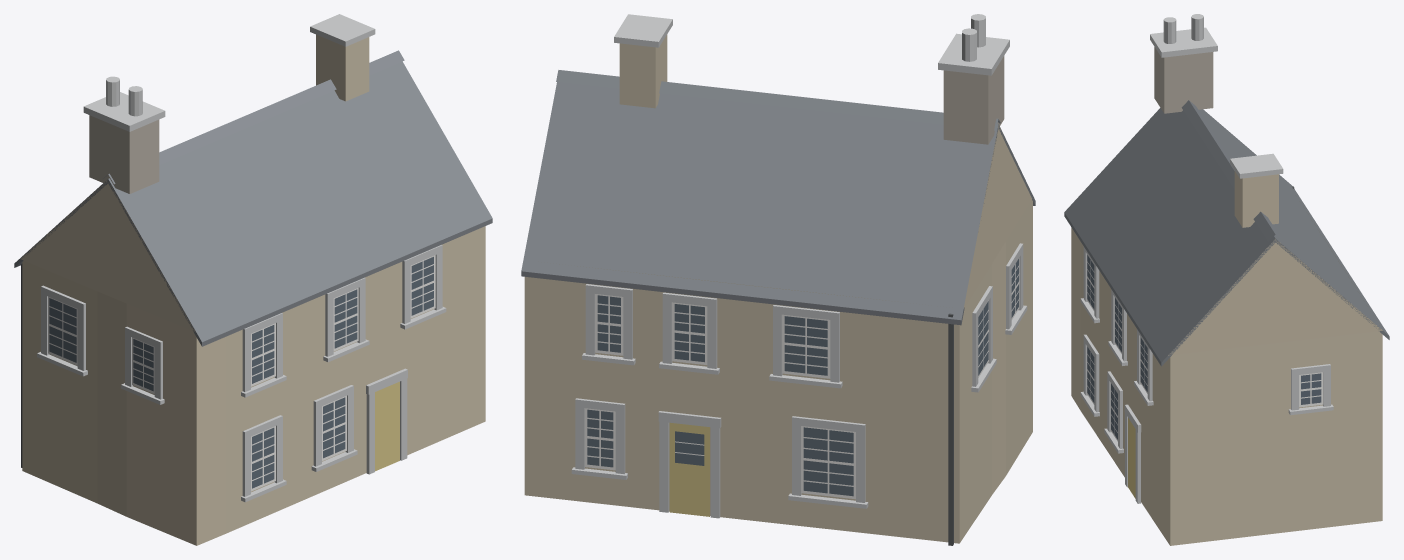
The picture shows the model from 3 angles, left to right: view 1: azimuth 30°, elevation 25°; view 2: azimuth 150°, elevation 25°; view 3: azimuth 270°, elevation 25°; orthographic projection. The views are drawn at different scales.
Visible parts, largest first — view 1: ss_dk, slate, stone_band, chim_stone, frame, door_yellow, window_glass_012, window_glass_008, window_glass_009, window_glass_011, window_glass_010, window_glass_007 (+1 smaller); view 2: slate, ss_dk, stone_band, frame, chim_stone, window_glass_004, door_yellow, window_glass_001, window_glass_002, pipe, window_glass_005, window_glass_003 (+2 smaller); view 3: ss_dk, slate, stone_band, chim_stone, frame, window_glass_014, door_yellow.
Boxes of the visible parts, x1=… form: ss_dk: x1=20, y1=34, x2=485, y2=545; slate: x1=14, y1=50, x2=492, y2=346; stone_band: x1=37, y1=14, x2=446, y2=502; chim_stone: x1=89, y1=115, x2=159, y2=193; frame: x1=48, y1=255, x2=435, y2=491; door_yellow: x1=375, y1=381, x2=399, y2=471; window_glass_012: x1=49, y1=298, x2=76, y2=362; window_glass_008: x1=334, y1=289, x2=357, y2=348; window_glass_009: x1=411, y1=256, x2=433, y2=315; window_glass_011: x1=323, y1=397, x2=345, y2=458; window_glass_010: x1=252, y1=427, x2=274, y2=488; window_glass_007: x1=252, y1=325, x2=274, y2=383; slate: x1=521, y1=70, x2=1035, y2=325; ss_dk: x1=524, y1=34, x2=1032, y2=543; stone_band: x1=571, y1=14, x2=1027, y2=518; frame: x1=584, y1=258, x2=1019, y2=499; chim_stone: x1=943, y1=56, x2=1004, y2=144; window_glass_004: x1=803, y1=427, x2=853, y2=496; door_yellow: x1=669, y1=422, x2=709, y2=516; window_glass_001: x1=784, y1=316, x2=827, y2=375; window_glass_002: x1=674, y1=304, x2=704, y2=362; pipe: x1=948, y1=313, x2=953, y2=545; window_glass_005: x1=587, y1=409, x2=613, y2=467; window_glass_003: x1=597, y1=295, x2=620, y2=352; ss_dk: x1=1071, y1=171, x2=1382, y2=545; slate: x1=1064, y1=100, x2=1389, y2=366; stone_band: x1=1080, y1=14, x2=1333, y2=503; chim_stone: x1=1154, y1=47, x2=1213, y2=113; frame: x1=1087, y1=254, x2=1323, y2=441; window_glass_014: x1=1301, y1=373, x2=1321, y2=404; door_yellow: x1=1128, y1=418, x2=1135, y2=498.
Bounding box in the file's own units: 11.14 × 10.97 × 8.66.
